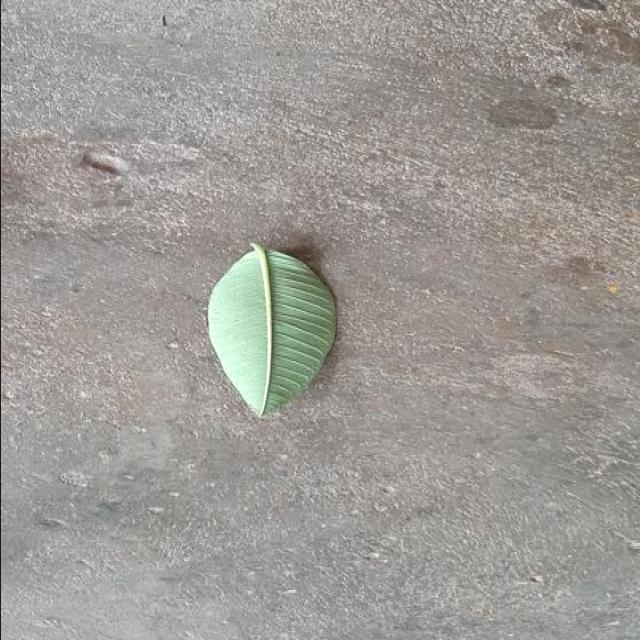leaf: (206, 241, 337, 418)
